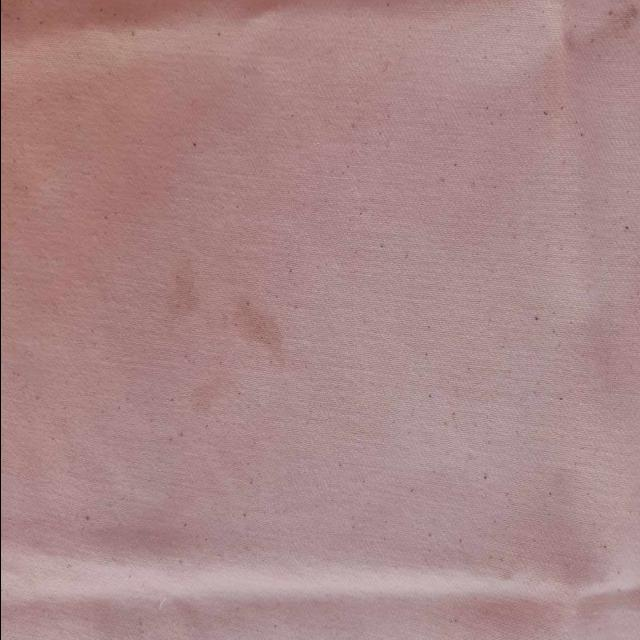taaaches: (221, 284, 291, 396), (162, 260, 208, 342)
